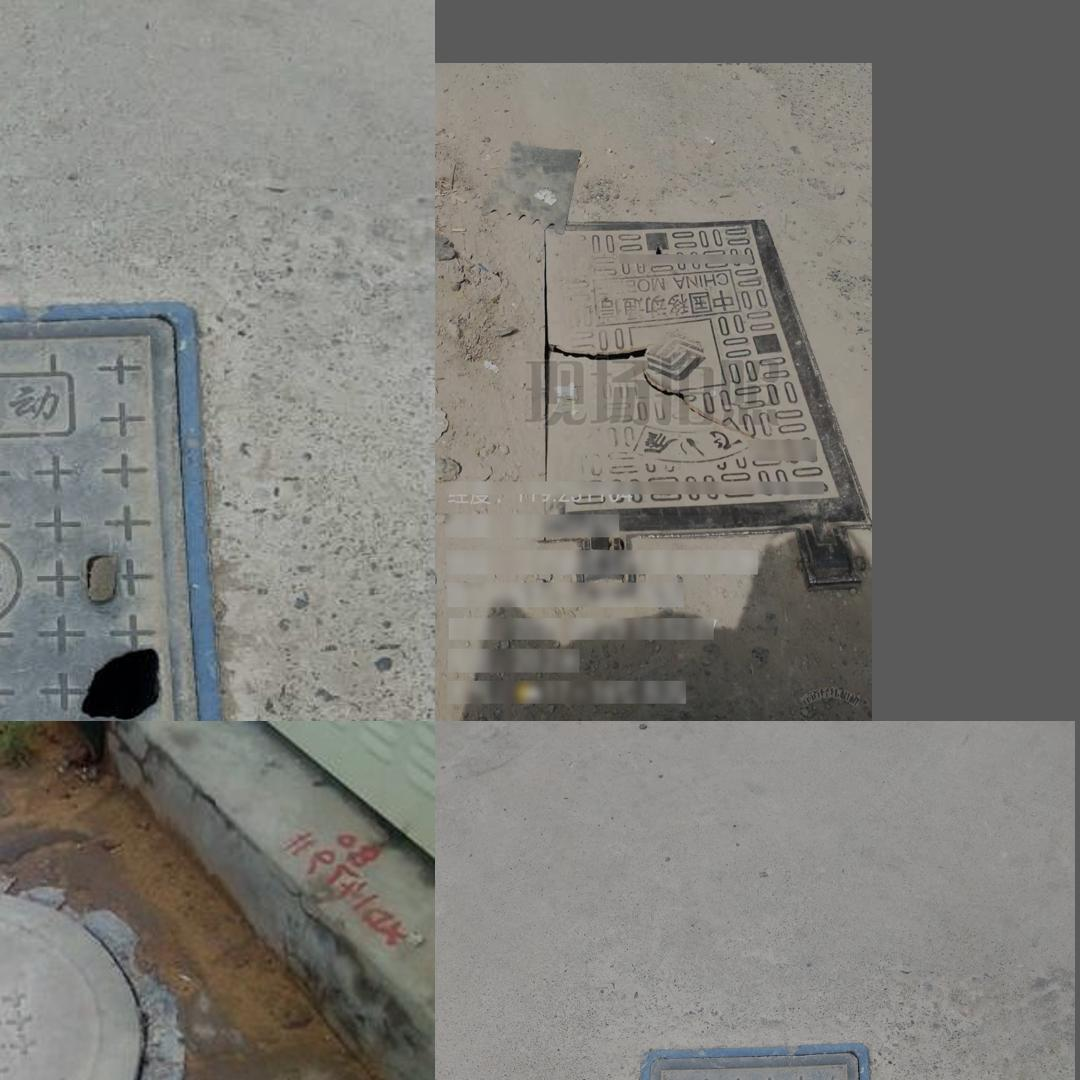broke: (535, 217, 872, 598), (0, 302, 229, 721), (0, 861, 192, 1080), (624, 1042, 898, 1080)
